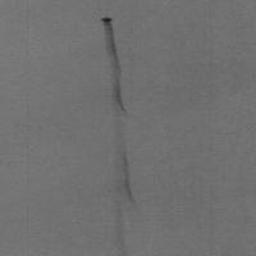Inclusion: (101, 17, 141, 256)
